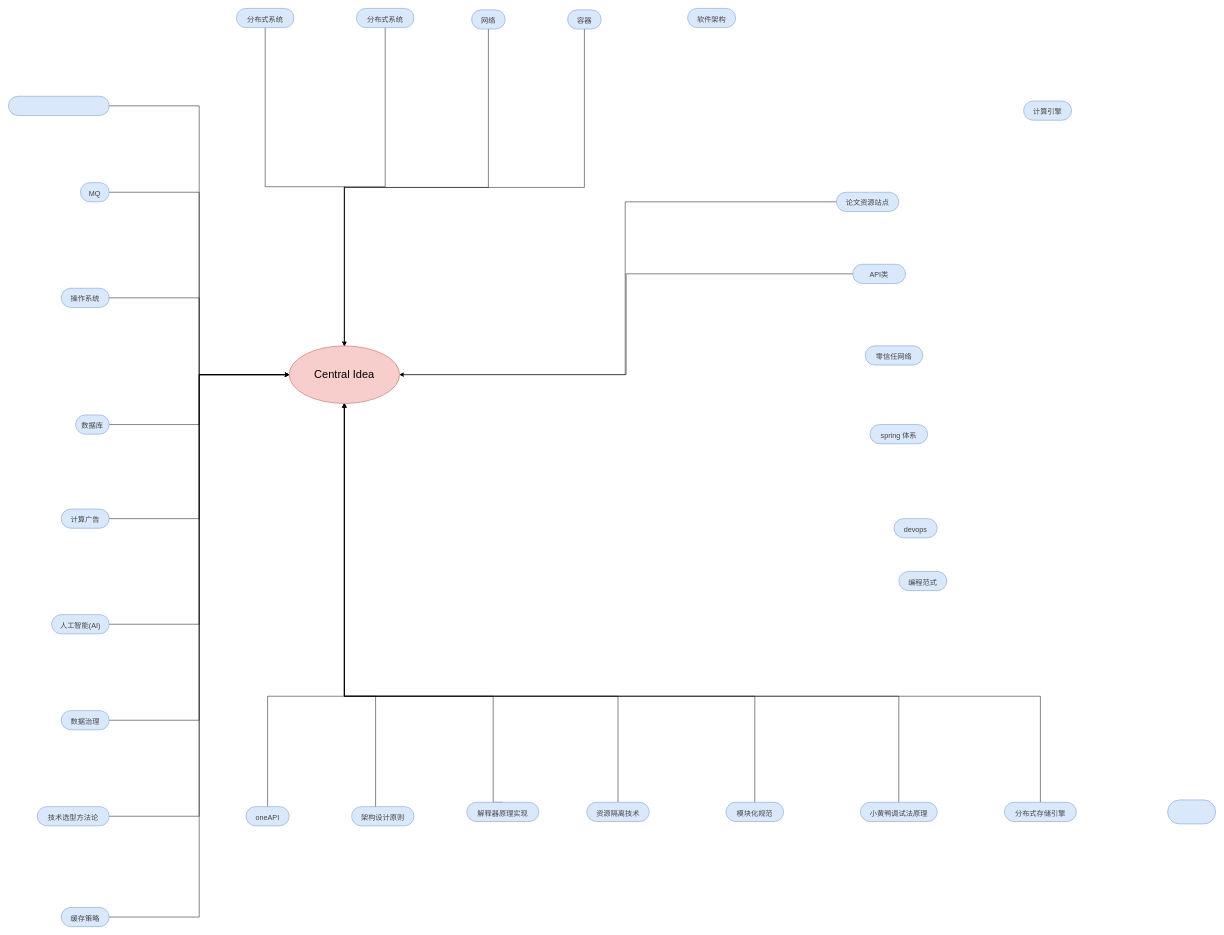
The diagram is 1224 pixels wide and 935 high, and some of its shapes have lost their labels. The shapes that lost their labels are listed below. From the top down, each one's centre as x and y in pixels, then its label:
the point at 58,105: 点对点技术应用领域
the point at 1191,811: 编译原理
